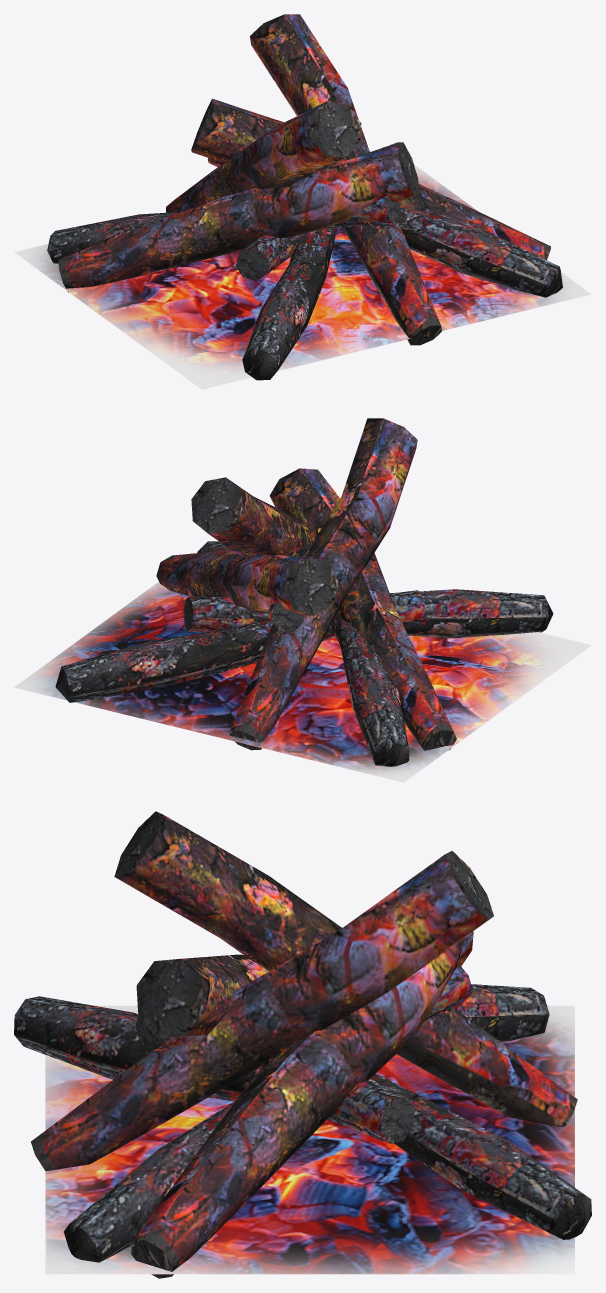
Rendered from burnWood.FBX.
3 renders of one model, top to bottom at view 1: azimuth 30°, elevation 25°; view 2: azimuth 150°, elevation 25°; view 3: azimuth 270°, elevation 25°, orthographic. The views are drawn at different scales.
Parts seen in each view (by area): view 1: Cylinder009; view 2: Cylinder009; view 3: Cylinder009.
Part boxes in pixels (x1,y1,x2,y2): Cylinder009: [14, 14, 591, 389]; Cylinder009: [14, 418, 591, 782]; Cylinder009: [14, 811, 591, 1278].
Bounding box in the file's own units: 733 × 413 × 663.
